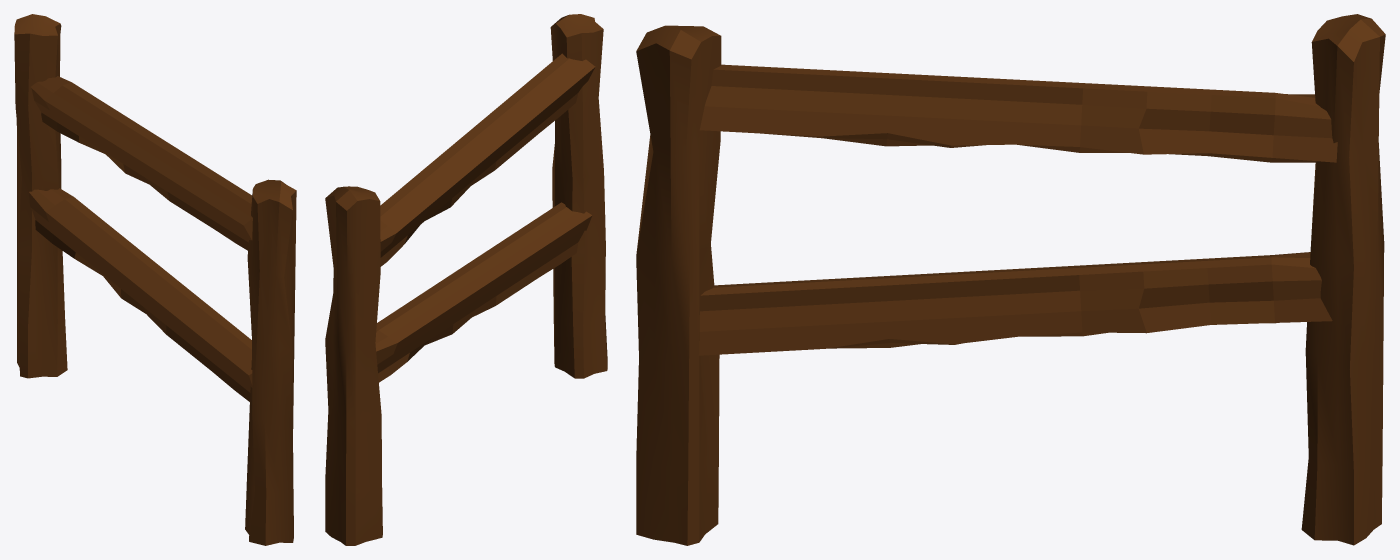
The model's file is fence_broken.fbx.
The picture shows the model from 3 angles, left to right: view 1: azimuth 30°, elevation 25°; view 2: azimuth 150°, elevation 25°; view 3: azimuth 270°, elevation 25°; orthographic projection. The views are drawn at different scales.
Visible parts, largest first — view 1: fence_leg, fence_leg2, fence_botl, fence_botr, fence_topl, fence_topr; view 2: fence_leg2, fence_leg, fence_topl, fence_botl, fence_botr, fence_topr; view 3: fence_leg, fence_leg2, fence_botl, fence_topl, fence_topr, fence_botr.
Part boxes in pixels (left/top/right/bottom): fence_leg: left=245, top=179, right=296, bottom=545; fence_leg2: left=14, top=14, right=67, bottom=378; fence_botl: left=136, top=270, right=252, bottom=401; fence_botr: left=29, top=188, right=164, bottom=313; fence_topl: left=133, top=138, right=252, bottom=250; fence_topr: left=31, top=76, right=159, bottom=184; fence_leg2: left=325, top=186, right=382, bottom=545; fence_leg: left=550, top=14, right=607, bottom=378; fence_topl: left=457, top=53, right=595, bottom=185; fence_botl: left=456, top=202, right=592, bottom=317; fence_botr: left=375, top=271, right=484, bottom=382; fence_topr: left=380, top=141, right=484, bottom=266; fence_leg: left=636, top=25, right=721, bottom=545; fence_leg2: left=1301, top=14, right=1385, bottom=545; fence_botl: left=698, top=269, right=1018, bottom=355; fence_topl: left=699, top=64, right=1018, bottom=147; fence_topr: left=1016, top=79, right=1337, bottom=162; fence_botr: left=1014, top=252, right=1332, bottom=336.
Size of the model in its own units: 19.71 by 122 by 164.
